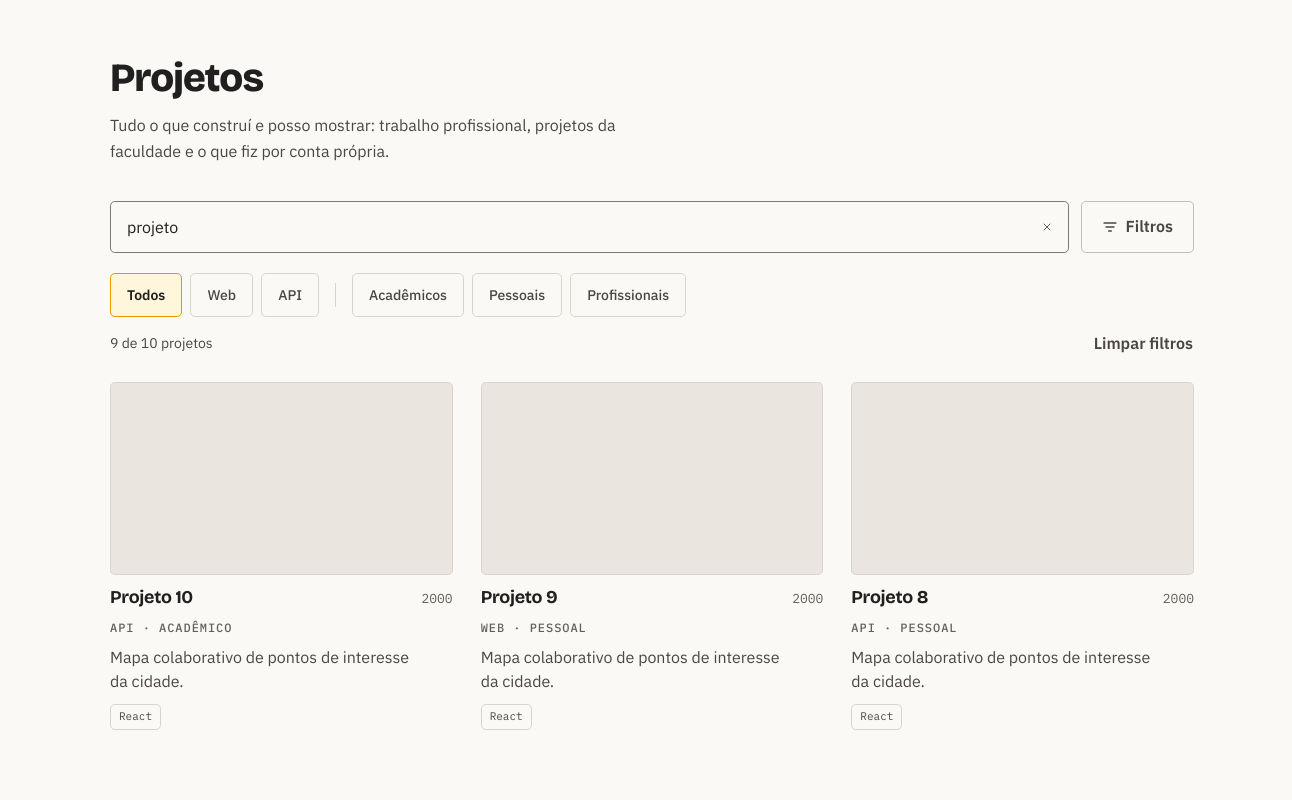
ProjectsPage › limpa a busca na hora, aplica e devolve o foco ao campo
Expected: the message reads "9 de 10 projetos", [110,332,213,355]
Expected: the search field named "Buscar projeto" holds "projeto", [110,201,1068,253]
Click the button named "Limpar busca": (1046, 227) [1024,201,1068,253]
(page scrolled)
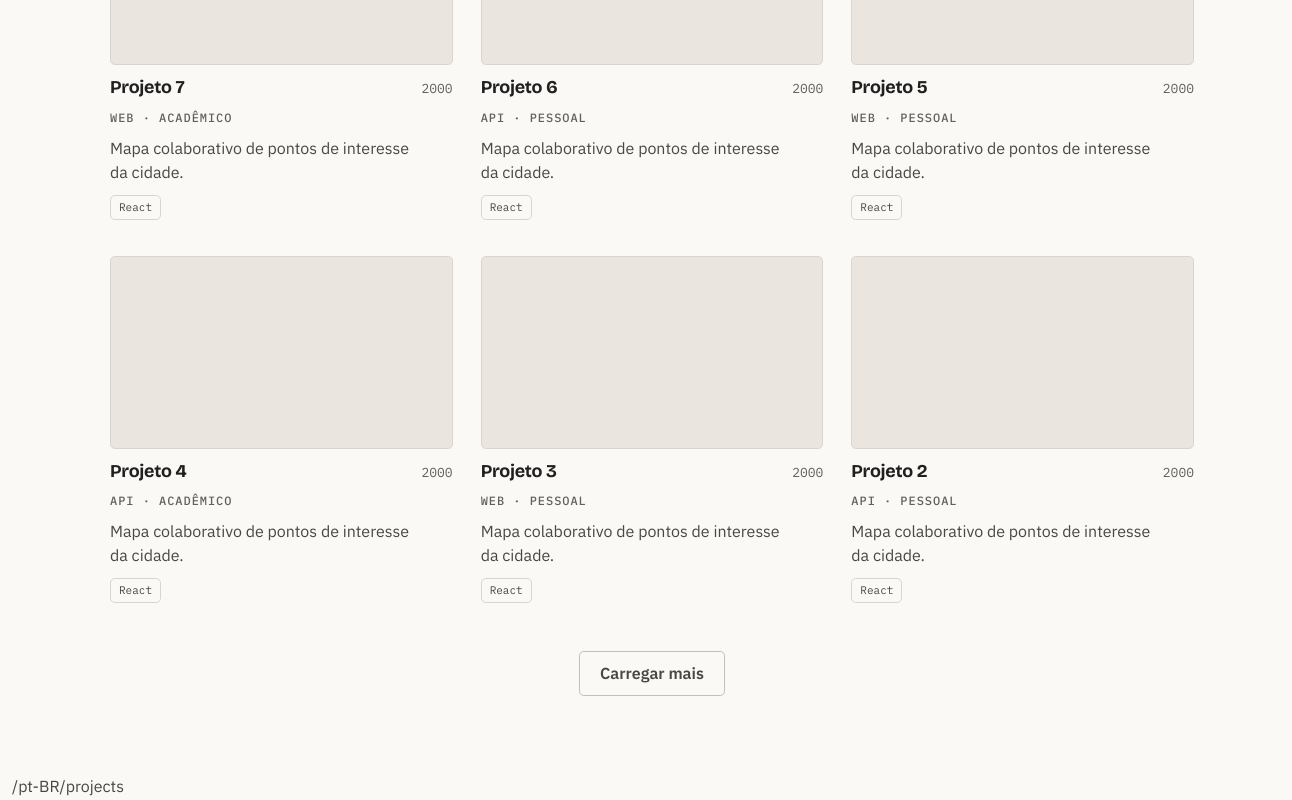
Now the text with test id "location" reads "/pt-BR/projects", box [12,776,124,796]
